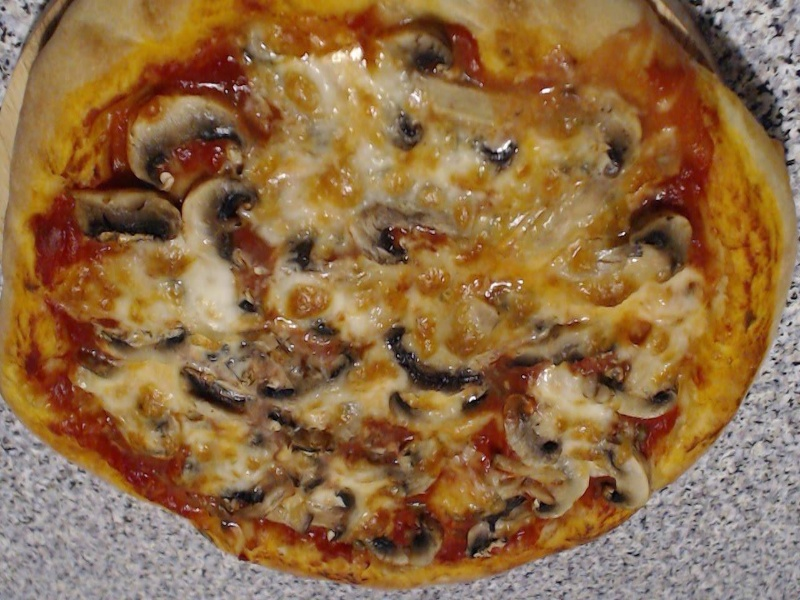champignon: (115, 91, 248, 183), (178, 180, 268, 261)
